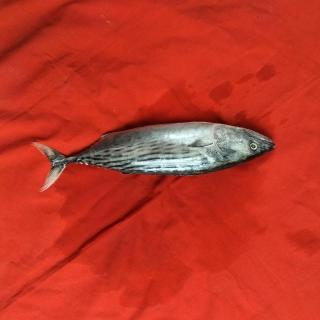Ikan: (35, 117, 283, 199)
